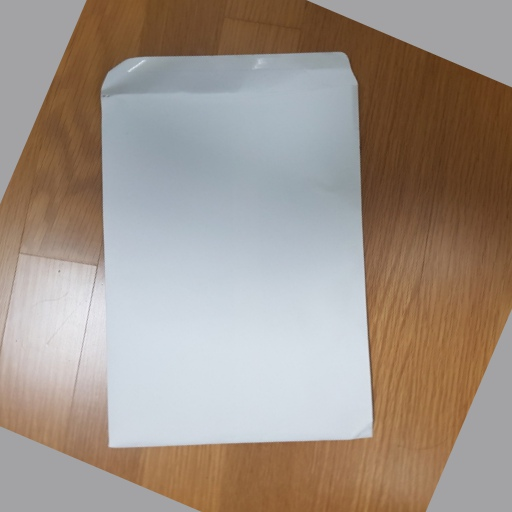Paper_2: (96, 51, 387, 449)
